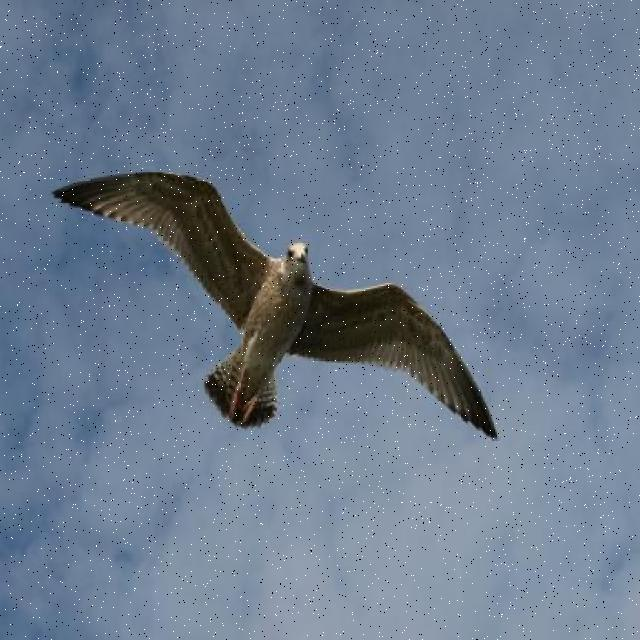bird: (52, 170, 500, 442)
